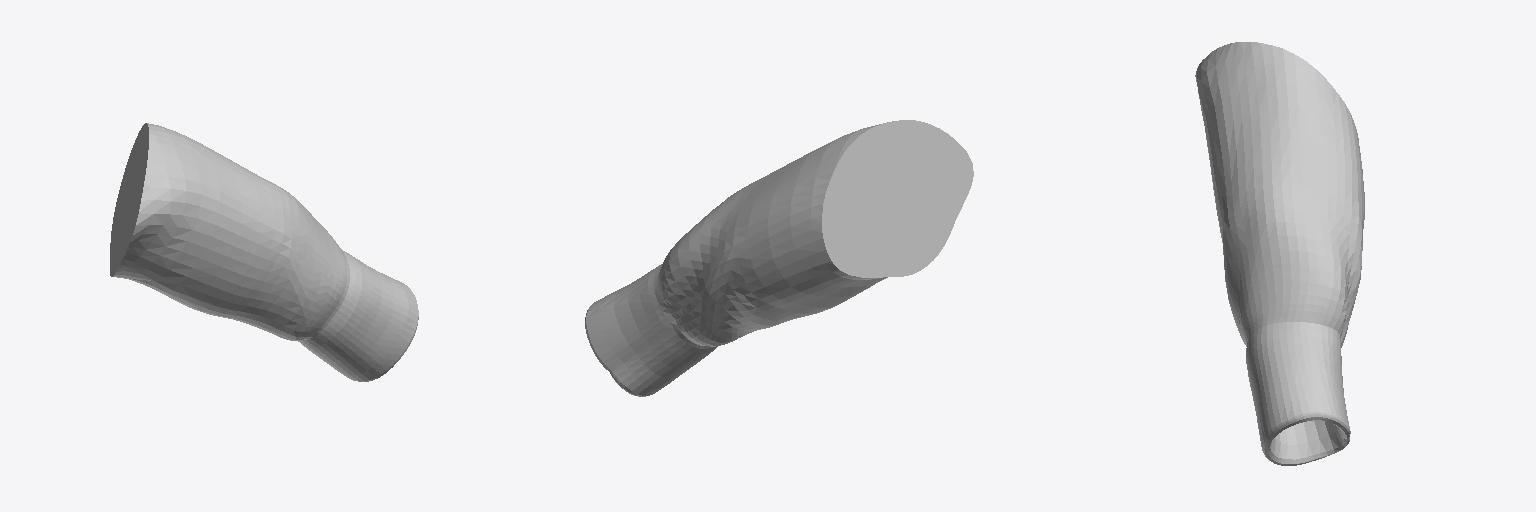
File: lowerarm_l_old.obj
3 views of the same model, side by side, from view 1: azimuth 30°, elevation 25°; view 2: azimuth 150°, elevation 25°; view 3: azimuth 270°, elevation 25° (orthographic).
Visible parts, largest first — view 1: lowerarm_l_torso.004; view 2: lowerarm_l_torso.004; view 3: lowerarm_l_torso.004.
Part boxes in pixels (x1,y1,x2,y2): lowerarm_l_torso.004: (110, 123, 418, 381); lowerarm_l_torso.004: (585, 120, 973, 396); lowerarm_l_torso.004: (1195, 42, 1364, 465).
Size of the model in its own units: 0.2107 by 0.1912 by 0.0938.